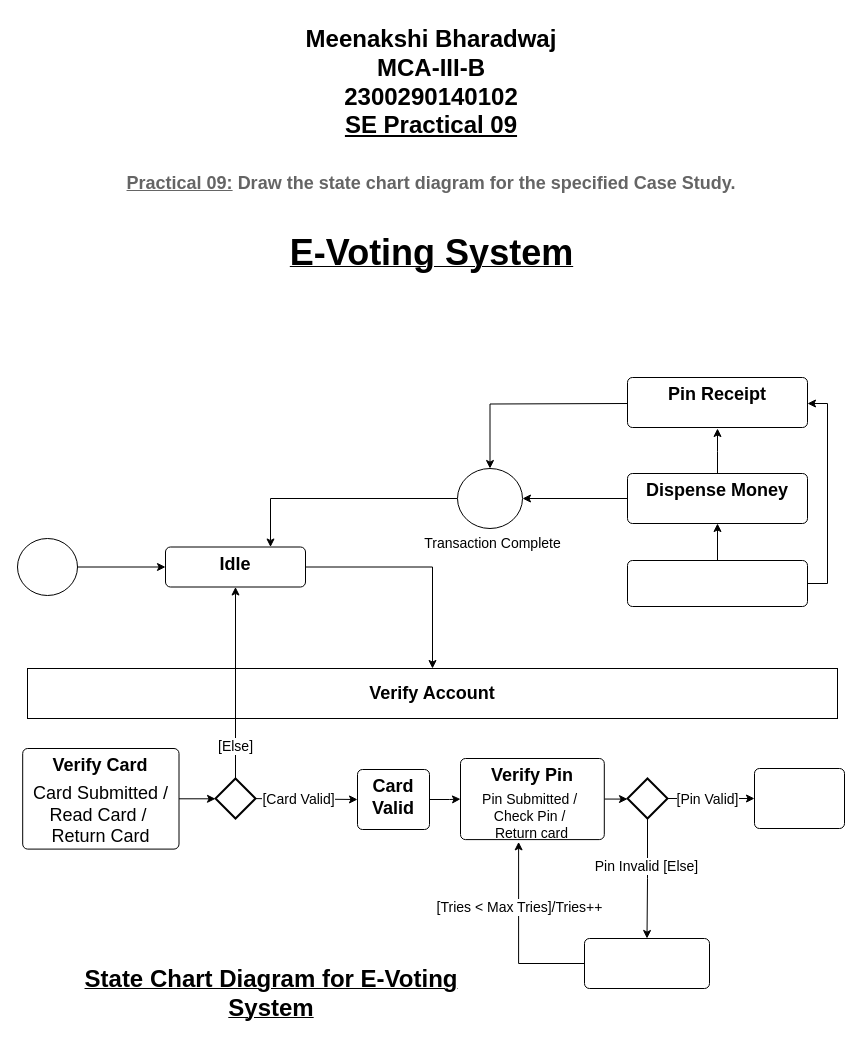
This 862x1064 diagram has some shape labels left out. Each missing label, with the centre of its shape:
"Account Actions" belongs at (x=717, y=583).
"Pin Correct" belongs at (x=799, y=798).
"Pin Incorrect" belongs at (x=647, y=963).
